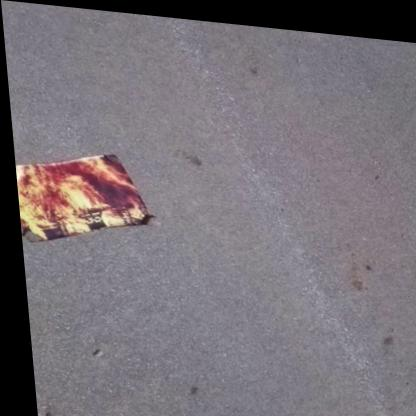fire-poster: (11, 143, 155, 254)
